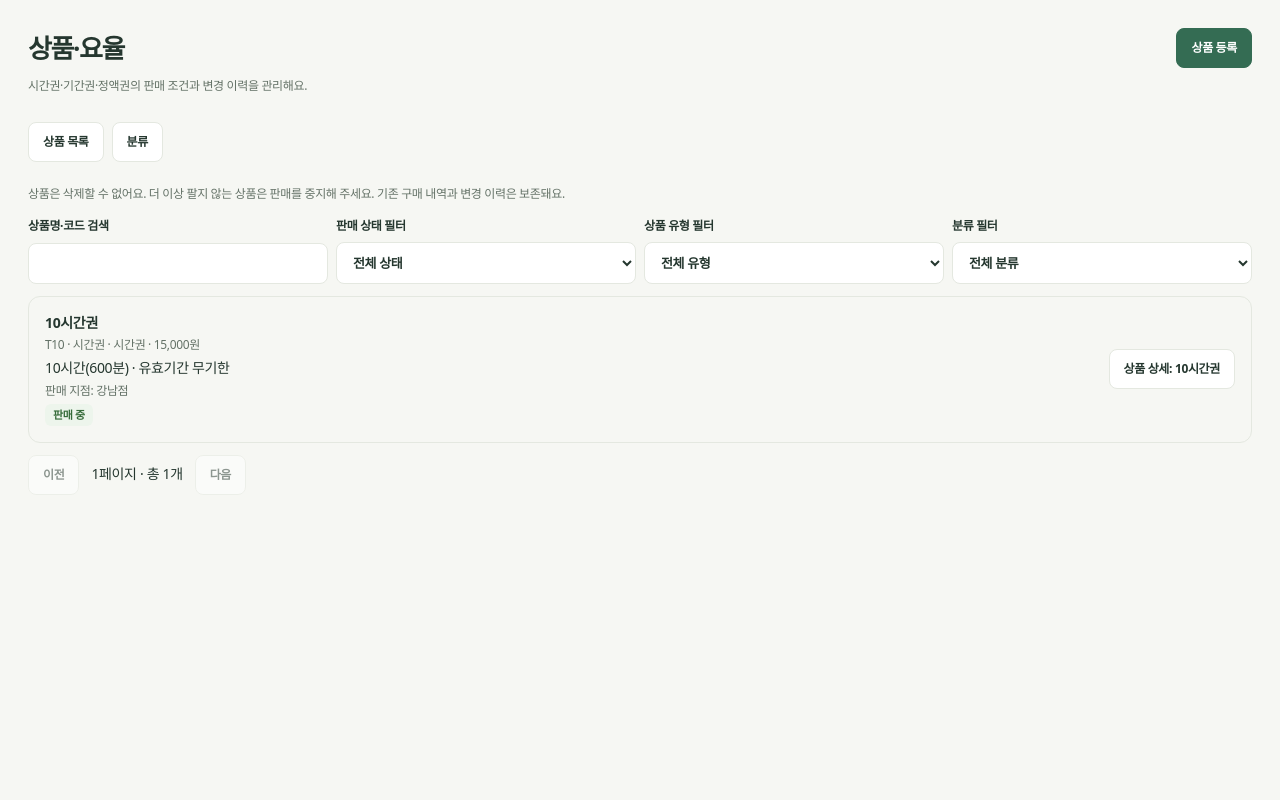
Test case: lets a writer edit but leaves sale status, branches and history to managers
The width and height of the screenshot is (1280, 800).
Click the button "상품 상세: 10시간권". click: (1172, 369)
box: [1108,349,1235,389]
(page scrolled)
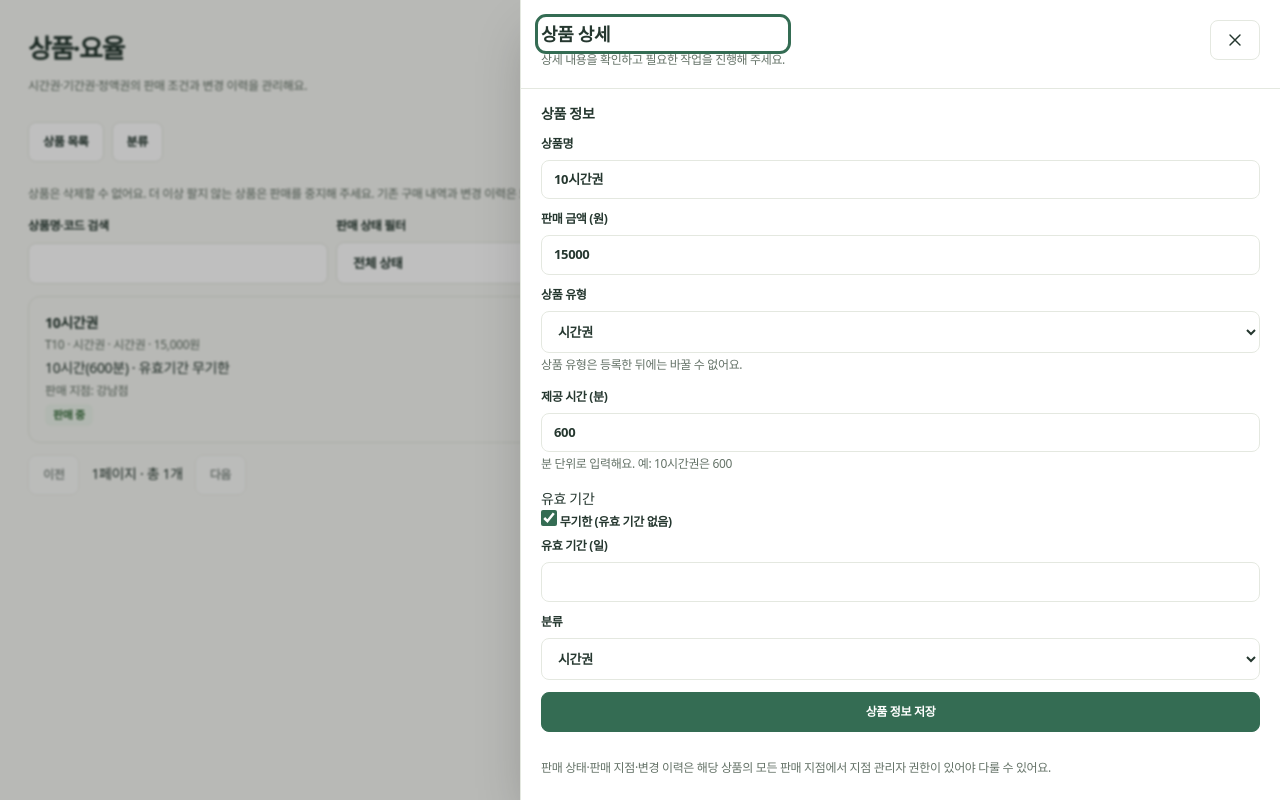
Check: the button "상품 정보 저장" is shown, box [541,692,1260,732]
Check: the text "지점 관리자 권한" is shown, box [541,759,1051,776]
